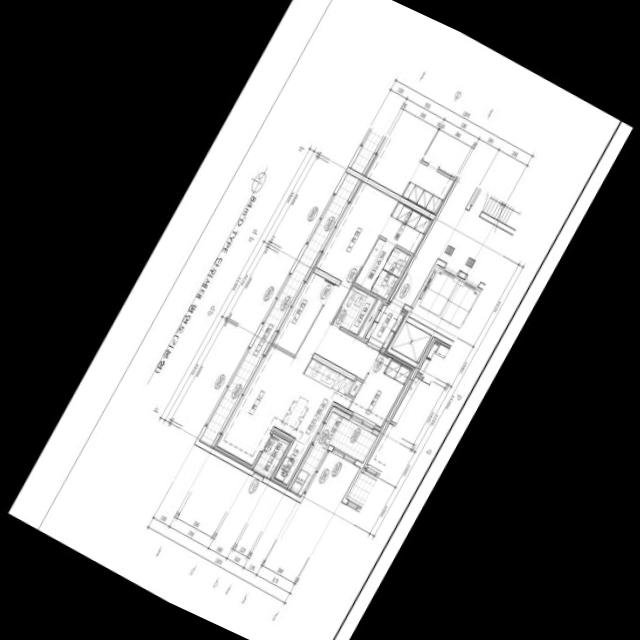background: (7, 0, 633, 640)
space_balconi: (199, 173, 358, 447), (289, 411, 377, 496)
space_bedroom: (314, 180, 398, 286), (271, 271, 334, 355), (346, 352, 412, 430)
space_dressroom: (380, 201, 431, 253)
space_elevator: (408, 264, 460, 329), (431, 278, 482, 341)
space_elevator_hall: (393, 177, 512, 306)
space_front: (363, 302, 405, 350)
space_kitchen: (275, 358, 353, 447)
space_living_room: (214, 285, 378, 465)
space_other: (354, 238, 394, 291), (273, 439, 309, 485), (390, 321, 430, 361), (357, 298, 382, 338), (348, 379, 361, 396)
space_outdoor_room: (252, 433, 289, 479)
space_staircase: (470, 188, 524, 229)
space_toilet: (332, 285, 377, 335), (370, 247, 410, 299)
